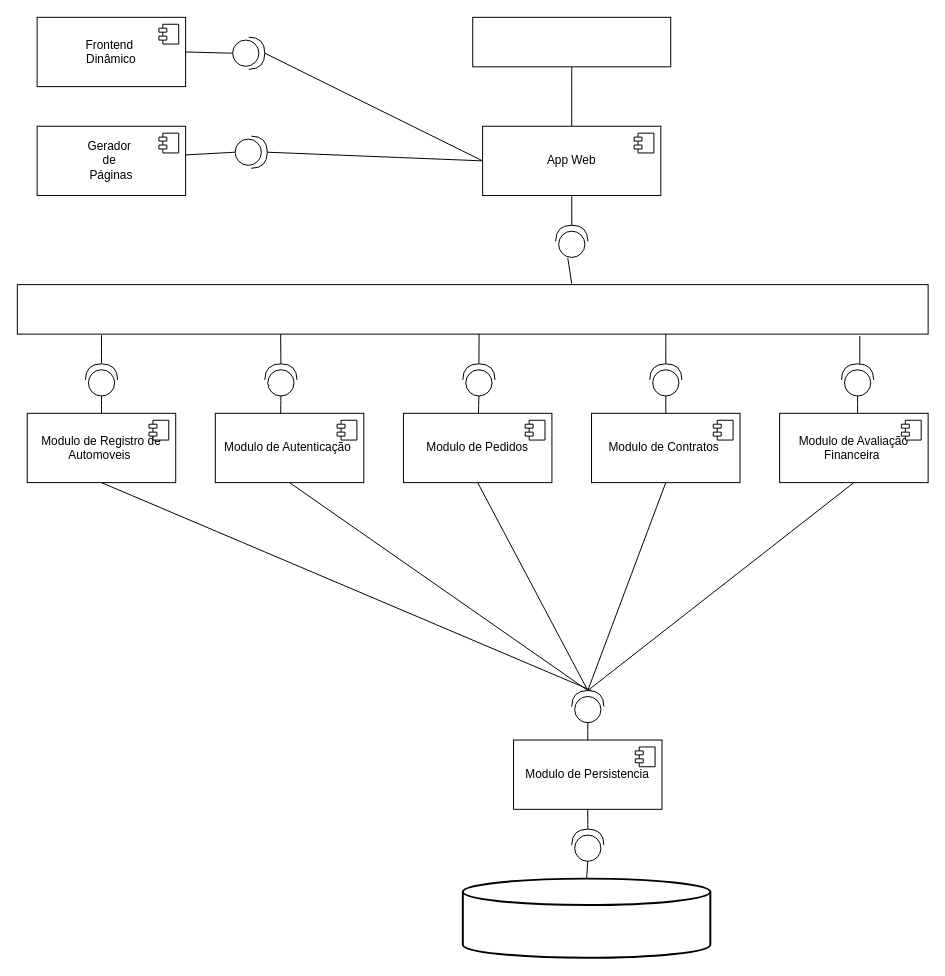
The diagram is 945 pixels wide and 976 high, and some of its shapes have lost their labels. The box of each missing label's shape, as (x1, y1, x2, y2) in pixels:
Api Web: (16, 284, 928, 334)
Banco de Dados SGBD: (461, 877, 711, 958)
Navegador Cliente: (472, 16, 671, 67)
